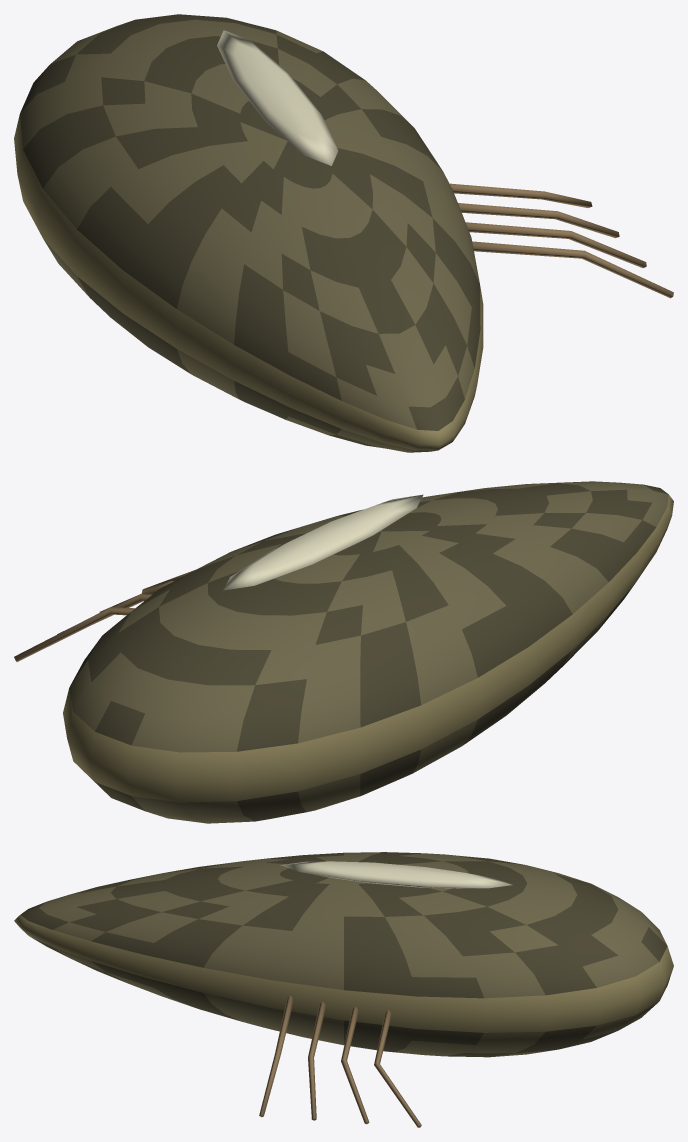
File: sea-pen-shell.glb
The picture shows the model from 3 angles, top to bottom: view 1: azimuth 30°, elevation 25°; view 2: azimuth 150°, elevation 25°; view 3: azimuth 270°, elevation 25°; orthographic projection. The views are drawn at different scales.
Parts seen in each view (by area): view 1: mussel; view 2: mussel; view 3: mussel.
Boxes of the visible parts, <box> form: mussel: <box>14,14,673,452</box>; mussel: <box>14,481,673,823</box>; mussel: <box>14,852,673,1127</box>.
Size of the model in its own units: 0.2059 by 0.0913 by 0.32.
